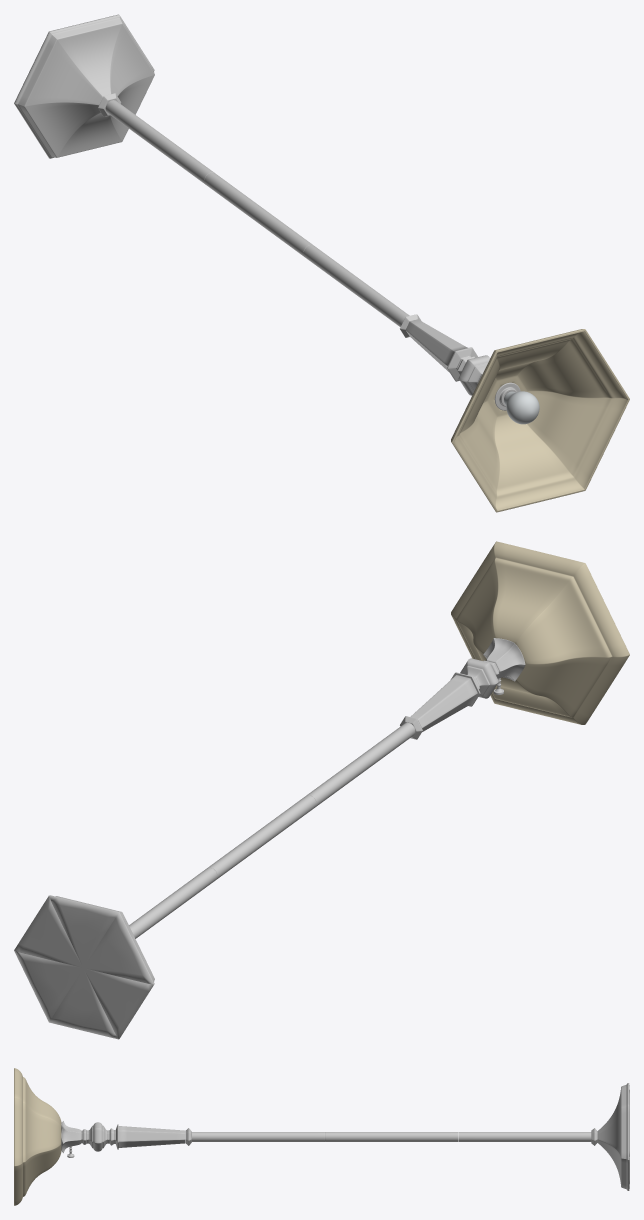
The model's file is lamp2.obj.
3 renders of one model, top to bottom at view 1: azimuth 30°, elevation 25°; view 2: azimuth 150°, elevation 25°; view 3: azimuth 270°, elevation 25°, orthographic. The views are drawn at different scales.
Visible parts, largest first — view 1: Lamp_body, Lamp_shade, Lamp_bulb_glass; view 2: Lamp_body, Lamp_shade; view 3: Lamp_body, Lamp_shade.
Part boxes in pixels (x1,y1,x2,y2): Lamp_body: [14, 14, 520, 410]; Lamp_shade: [451, 329, 629, 512]; Lamp_bulb_glass: [504, 391, 539, 424]; Lamp_body: [14, 638, 525, 1039]; Lamp_shade: [451, 541, 629, 724]; Lamp_body: [61, 1083, 629, 1190]; Lamp_shade: [14, 1068, 61, 1205].
Size of the model in its own units: 41.08 by 35.67 by 183.
